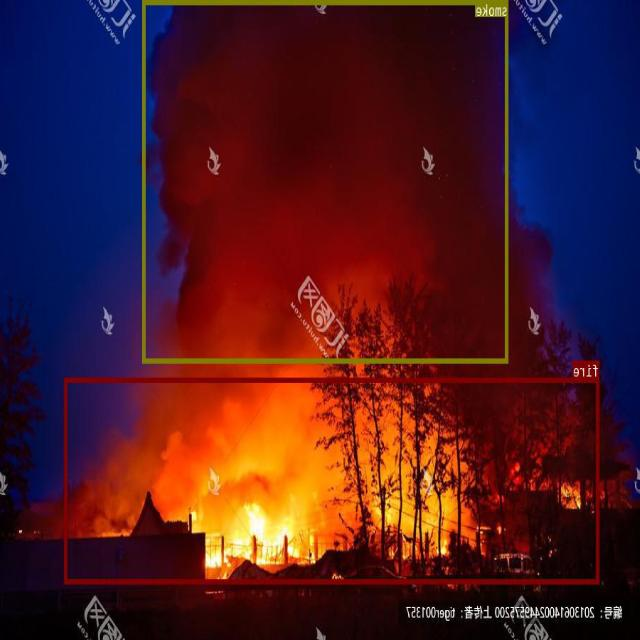fire: (65, 377, 600, 583)
smoke: (143, 0, 509, 363)
